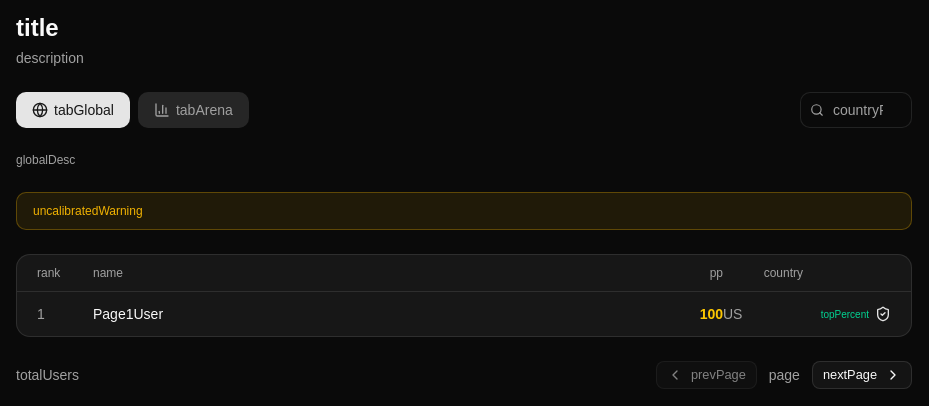
GlobalRankingPage › navigates to previous page when prev button is clicked
Check: the text "Page1User" is shown, box [93, 304, 163, 324]
// Go to page 2
Click the button "nextPage": (862,375) [812, 361, 912, 389]
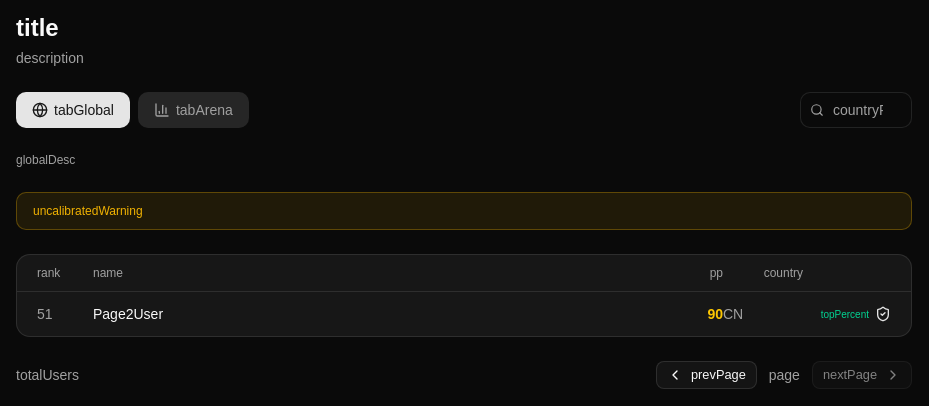
Check: the text "Page2User" is shown, box [93, 304, 163, 324]
Check: the button "prevPage" is enabled
Click the button "prevPage": (706,375) [656, 361, 757, 389]
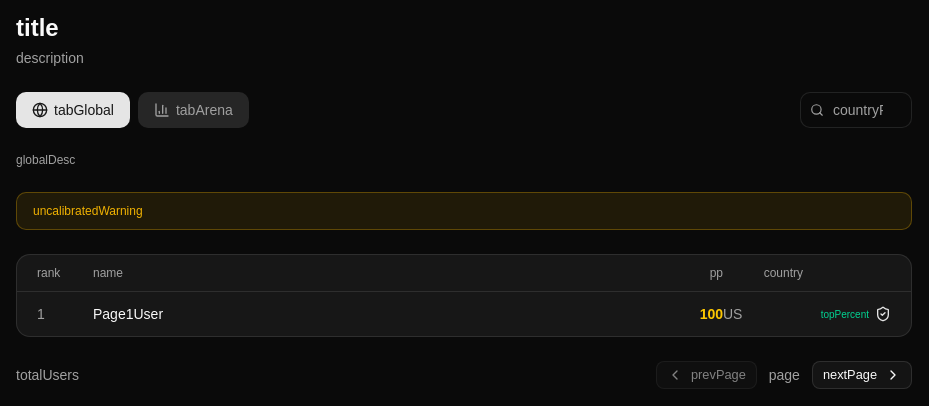
Check: the text "Page1User" is shown, box [93, 304, 163, 324]
